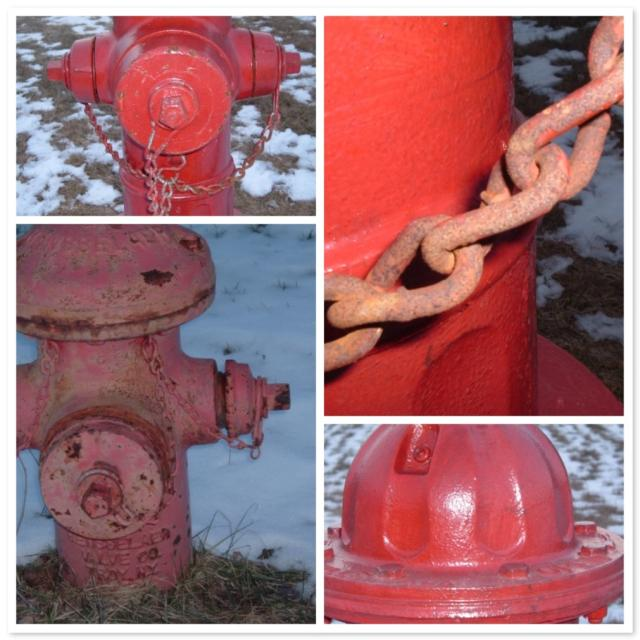fire_hydrant: (322, 16, 624, 413), (12, 224, 291, 598), (322, 423, 624, 625), (47, 15, 302, 214)
